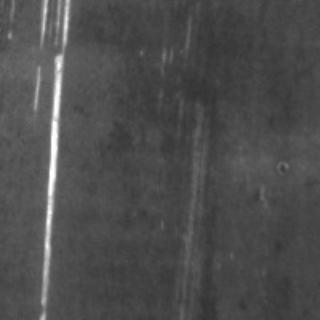scratches: (32, 0, 70, 318)
